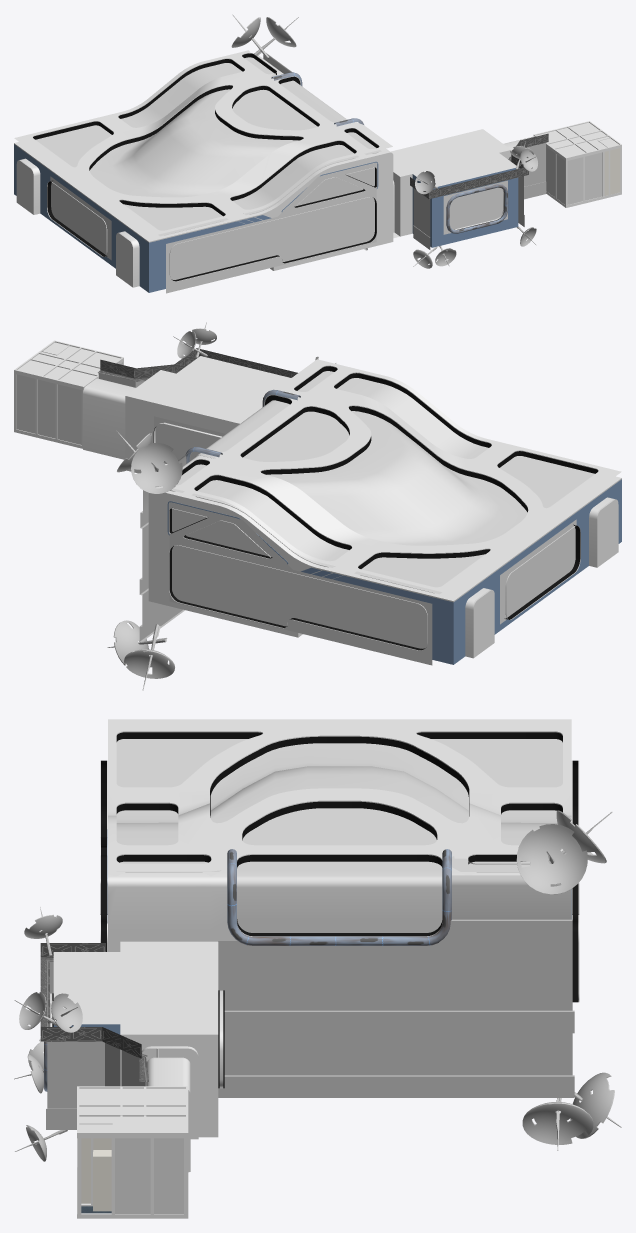
Rendered from MainFinal.fbx.
3 renders of one model, top to bottom at view 1: azimuth 30°, elevation 25°; view 2: azimuth 150°, elevation 25°; view 3: azimuth 270°, elevation 25°, orthographic. The views are drawn at different scales.
Parts seen in each view (by area): view 1: Plane.001, Plane.017, Plane.010, Plane, cube, Plane.057, Plane.014, Plane.052, Plane.012, Plane.013, Plane.015, Plane.059 (+6 smaller); view 2: Plane.001, Plane.017, Plane.010, Plane, cube, Plane.014, Plane.057, Plane.012, Plane.013, Plane.015, Plane.004, Plane.052 (+7 smaller); view 3: Plane.001, Plane.060, Plane.062, cube, Plane.011, Plane.057, Plane.010, Plane.012, Plane.061, Plane.063, Plane.013, Plane.065 (+17 smaller).
Boxes of the visible parts, x1,y1,x2,y2 form: Plane.001: [14, 50, 393, 241]; Plane.017: [166, 162, 376, 293]; Plane.010: [89, 89, 298, 197]; Plane: [14, 143, 393, 292]; cube: [533, 121, 621, 207]; Plane.057: [390, 129, 516, 186]; Plane.014: [121, 63, 358, 215]; Plane.052: [393, 150, 518, 247]; Plane.012: [35, 125, 228, 236]; Plane.013: [232, 57, 381, 154]; Plane.015: [50, 176, 111, 260]; Plane.059: [443, 180, 507, 234]; Plane.001: [148, 359, 621, 600]; Plane.017: [169, 502, 432, 665]; Plane.010: [267, 411, 527, 545]; Plane: [148, 478, 621, 664]; cube: [14, 340, 123, 448]; Plane.014: [191, 378, 488, 567]; Plane.057: [125, 356, 290, 423]; Plane.012: [354, 456, 594, 594]; Plane.013: [171, 371, 349, 492]; Plane.015: [500, 519, 576, 624]; Plane.004: [83, 378, 135, 459]; Plane.052: [125, 396, 239, 473]; Plane.001: [100, 719, 579, 936]; Plane.060: [218, 941, 572, 1010]; Plane.062: [224, 1033, 572, 1075]; cube: [77, 1086, 188, 1218]; Plane.011: [237, 861, 442, 932]; Plane.057: [53, 941, 218, 1034]; Plane.010: [210, 743, 468, 823]; Plane.012: [116, 739, 562, 787]; Plane.061: [224, 1010, 574, 1033]; Plane.063: [218, 1075, 574, 1097]; Plane.013: [117, 808, 530, 871]; Plane.065: [452, 875, 570, 919].
Bounding box in the file's own units: 2888 × 1097 × 1882.
